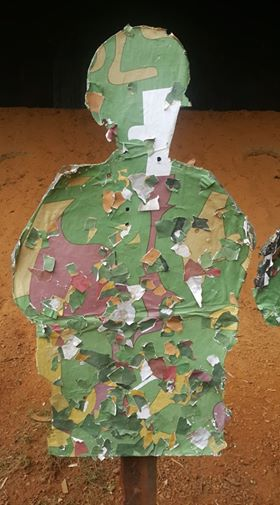Bullet: (156, 156, 163, 163), (59, 444, 66, 451), (165, 30, 171, 38), (124, 222, 130, 228), (106, 172, 112, 178), (125, 207, 130, 212)
